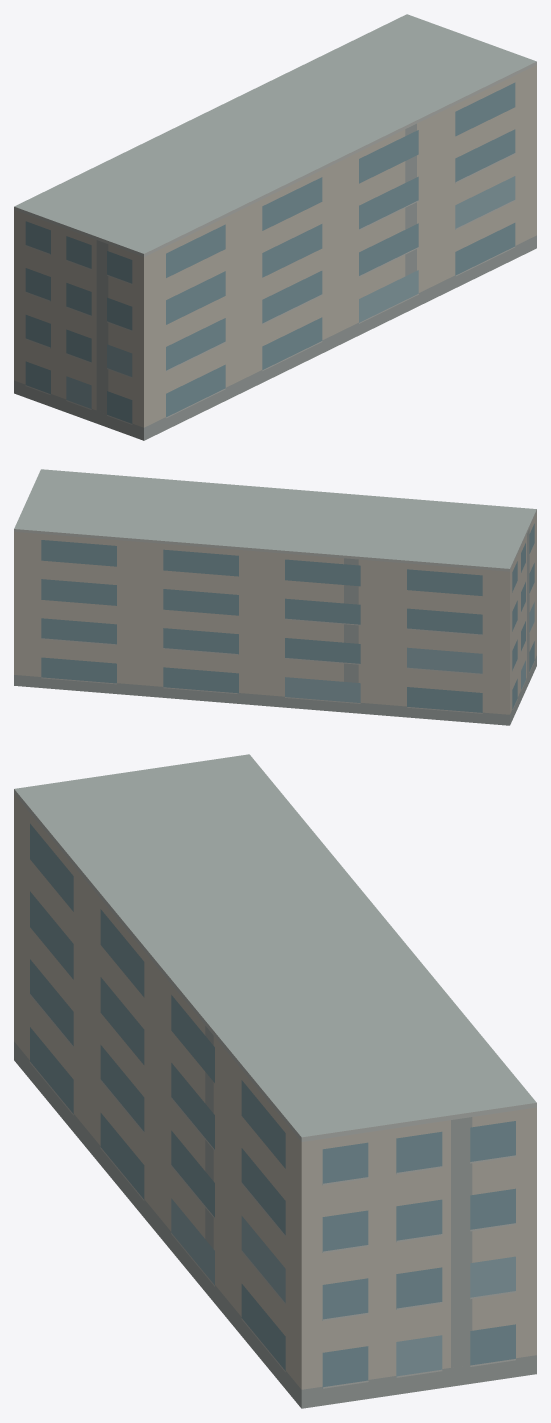
File: residential-740f4ab9-f99c-47c3-bc51-8c91c8e31edd.glb
3 views of the same model, one above another, from view 1: azimuth 30°, elevation 25°; view 2: azimuth 150°, elevation 25°; view 3: azimuth 270°, elevation 25° (orthographic). The views are drawn at different scales.
Visible parts, largest first — view 1: residential-740f4ab9-f99c-47c3-bc51-8c91c8e31edd.tmp; view 2: residential-740f4ab9-f99c-47c3-bc51-8c91c8e31edd.tmp; view 3: residential-740f4ab9-f99c-47c3-bc51-8c91c8e31edd.tmp.
Boxes of the visible parts, x1=… form: residential-740f4ab9-f99c-47c3-bc51-8c91c8e31edd.tmp: x1=14, y1=14, x2=536, y2=440; residential-740f4ab9-f99c-47c3-bc51-8c91c8e31edd.tmp: x1=14, y1=469, x2=536, y2=725; residential-740f4ab9-f99c-47c3-bc51-8c91c8e31edd.tmp: x1=14, y1=754, x2=536, y2=1408.
Bounding box in the file's own units: 42.41 × 14 × 24.46.
